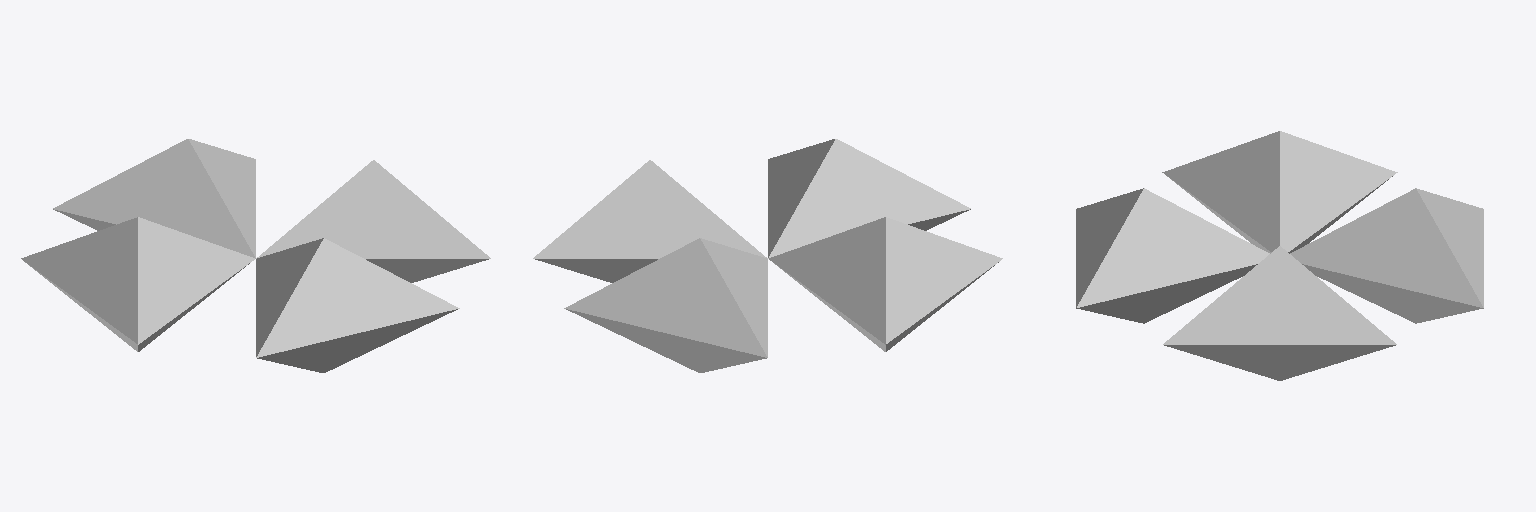
File: tetra.obj
The picture shows the model from 3 angles: view 1: azimuth 30°, elevation 25°; view 2: azimuth 150°, elevation 25°; view 3: azimuth 270°, elevation 25°; orthographic projection.
Visible parts, largest first — view 1: Cone.001, Cone.003, Cone.002, Cone, Cone.006, Cone.004, Cone.005; view 2: Cone.001, Cone.002, Cone.003, Cone, Cone.007, Cone.004, Cone.005; view 3: Cone.001, Cone.002, Cone.003, Cone, Cone.004, Cone.006, Cone.007, Cone.005.
Part boxes in pixels (bbox=[...]): Cone.001: bbox=[21, 217, 254, 344]; Cone.003: bbox=[256, 238, 459, 357]; Cone.002: bbox=[53, 139, 255, 258]; Cone: bbox=[256, 160, 490, 258]; Cone.006: bbox=[257, 309, 457, 372]; Cone.004: bbox=[366, 259, 488, 282]; Cone.005: bbox=[25, 262, 249, 351]; Cone.001: bbox=[769, 217, 1002, 344]; Cone.002: bbox=[564, 238, 767, 357]; Cone.003: bbox=[768, 139, 970, 258]; Cone: bbox=[533, 160, 767, 258]; Cone.007: bbox=[566, 309, 766, 372]; Cone.004: bbox=[535, 259, 657, 282]; Cone.005: bbox=[774, 262, 998, 351]; Cone.001: bbox=[1162, 131, 1397, 251]; Cone.002: bbox=[1290, 188, 1483, 307]; Cone.003: bbox=[1076, 188, 1269, 307]; Cone: bbox=[1163, 246, 1396, 344]; Cone.004: bbox=[1164, 345, 1395, 380]; Cone.006: bbox=[1076, 264, 1257, 323]; Cone.007: bbox=[1302, 264, 1483, 323]; Cone.005: bbox=[1167, 176, 1392, 253].
Bounding box in the file's own units: 2.6 × 0.9533 × 2.6.